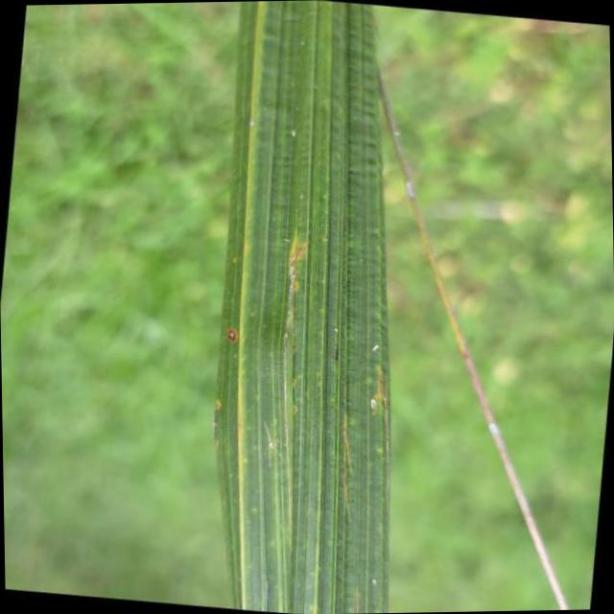Boron: (210, 0, 388, 614)
